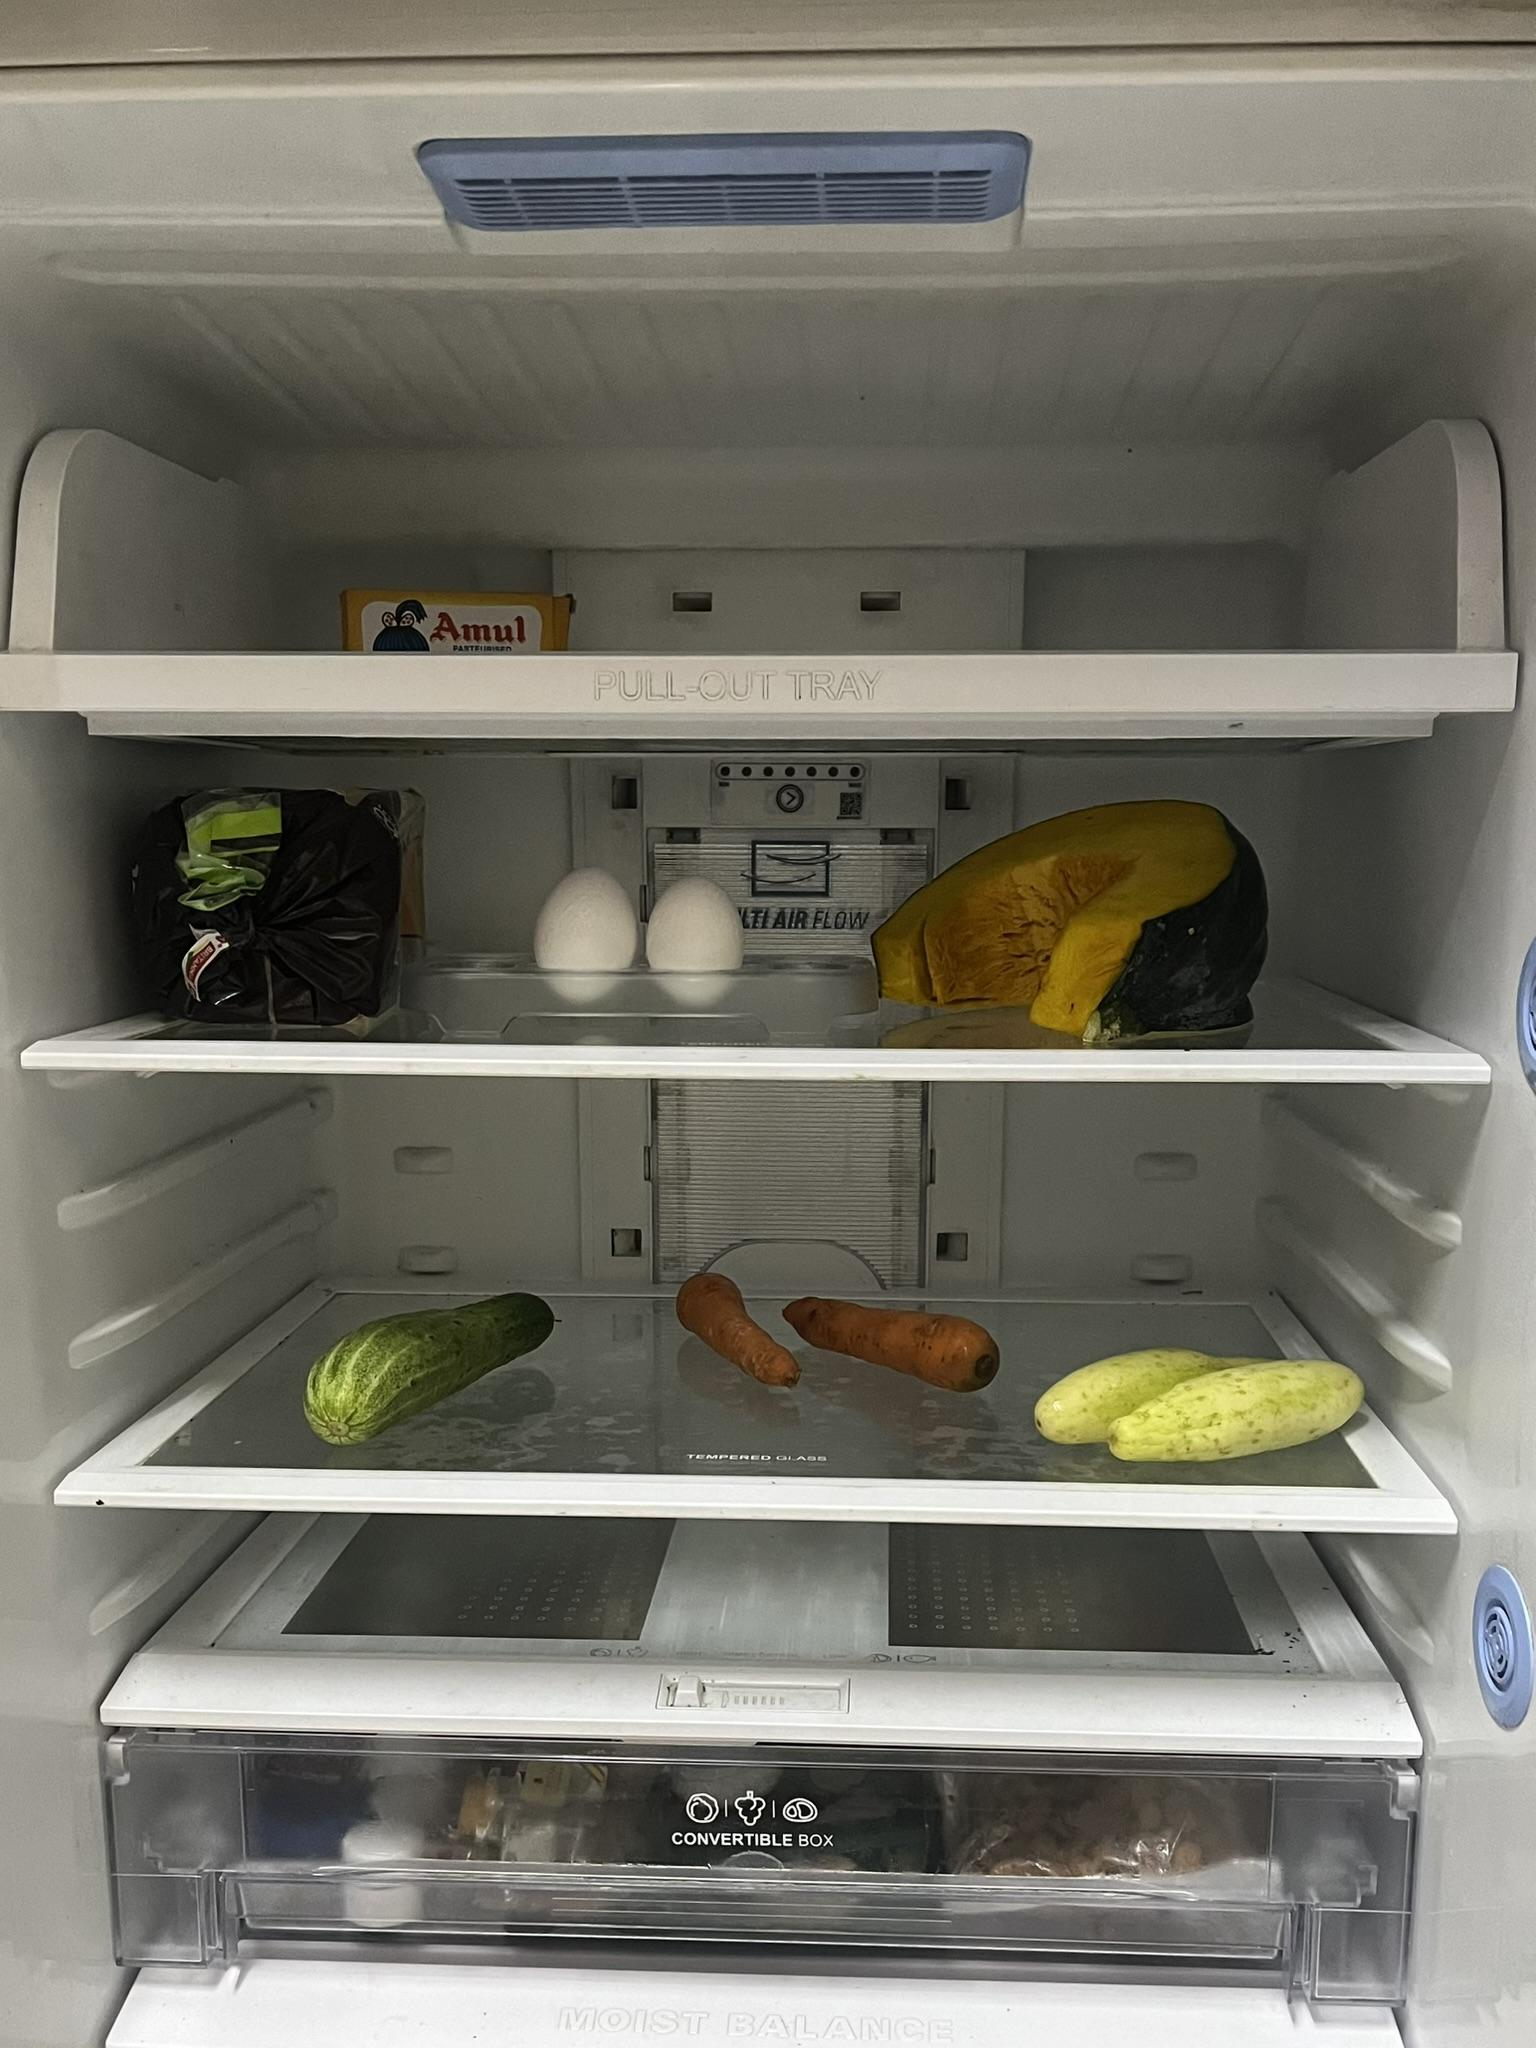bread: (157, 797, 426, 1030)
butter: (334, 587, 573, 660)
carrots: (1041, 1343, 1376, 1467), (787, 1284, 1000, 1409), (679, 1250, 807, 1397)
cucumber: (297, 1284, 553, 1443)
egg: (541, 863, 647, 1003), (650, 869, 757, 997)
pumpkin: (876, 793, 1273, 1030)
